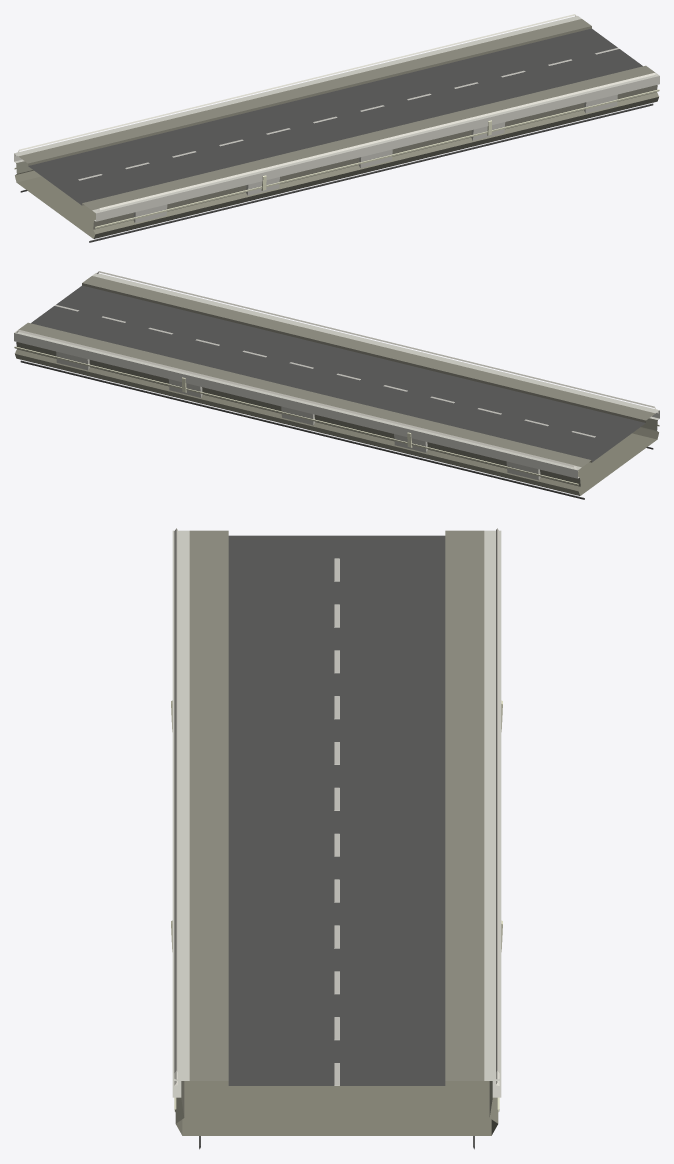
The model's file is bridge2.fbx.
3 views of the same model, one above another, from view 1: azimuth 30°, elevation 25°; view 2: azimuth 150°, elevation 25°; view 3: azimuth 270°, elevation 25° (orthographic). The views are drawn at different scales.
Parts seen in each view (by area): view 1: bridge2; view 2: bridge2; view 3: bridge2.
Boxes of the visible parts, x1,y1,x2,y2 form: bridge2: (14, 14, 659, 242); bridge2: (14, 271, 659, 499); bridge2: (171, 528, 502, 1149).
Size of the model in its own units: 5000 by 321 by 1275.
